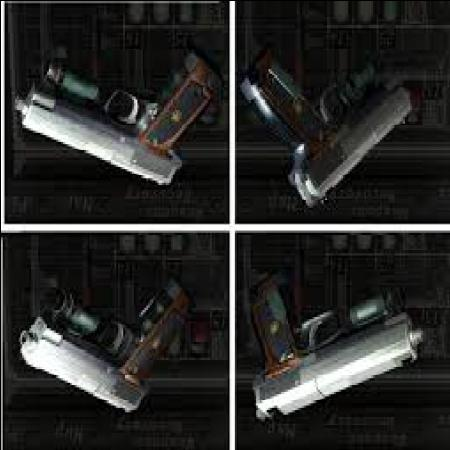Pistol: (242, 39, 414, 214), (243, 268, 425, 425), (14, 55, 222, 188), (18, 270, 201, 416)
